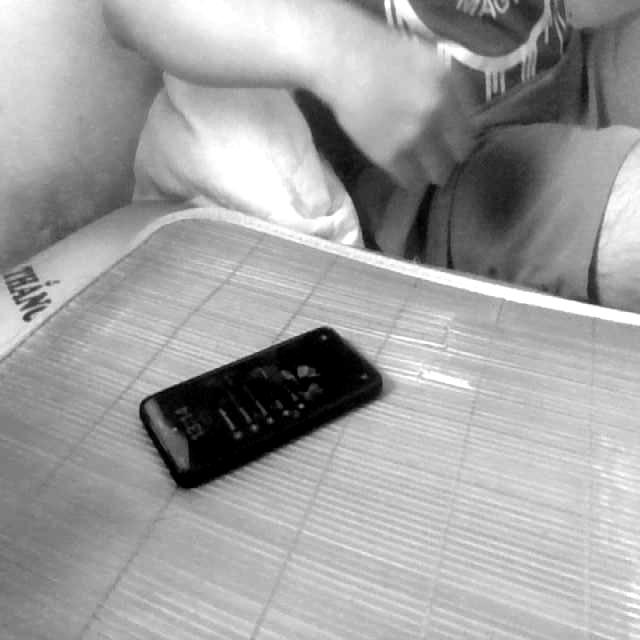phone: (131, 302, 390, 507)
